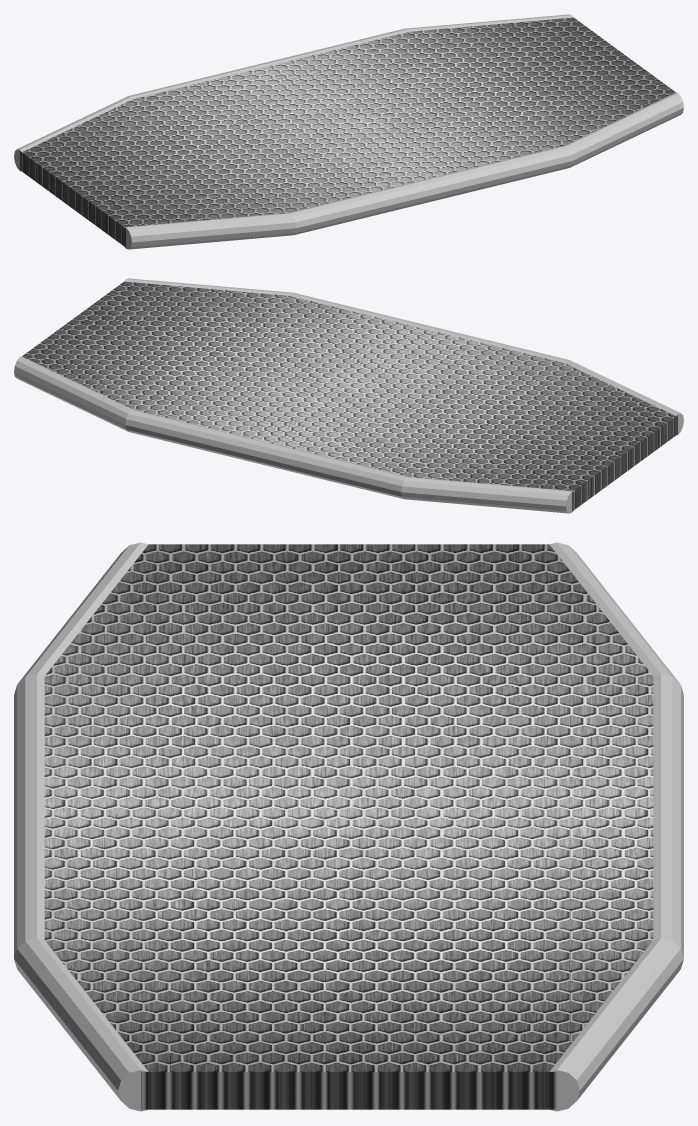
The picture shows the model from 3 angles, top to bottom: view 1: azimuth 30°, elevation 25°; view 2: azimuth 150°, elevation 25°; view 3: azimuth 270°, elevation 25°; orthographic projection. The views are drawn at different scales.
Visible parts, largest first — view 1: SPlatform; view 2: SPlatform; view 3: SPlatform.
Part boxes in pixels (x1=…): SPlatform: x1=14, y1=14, x2=683, y2=249; SPlatform: x1=14, y1=278, x2=683, y2=513; SPlatform: x1=14, y1=542, x2=683, y2=1111.
Bounding box in the file's own units: 1200 × 44 × 644.
